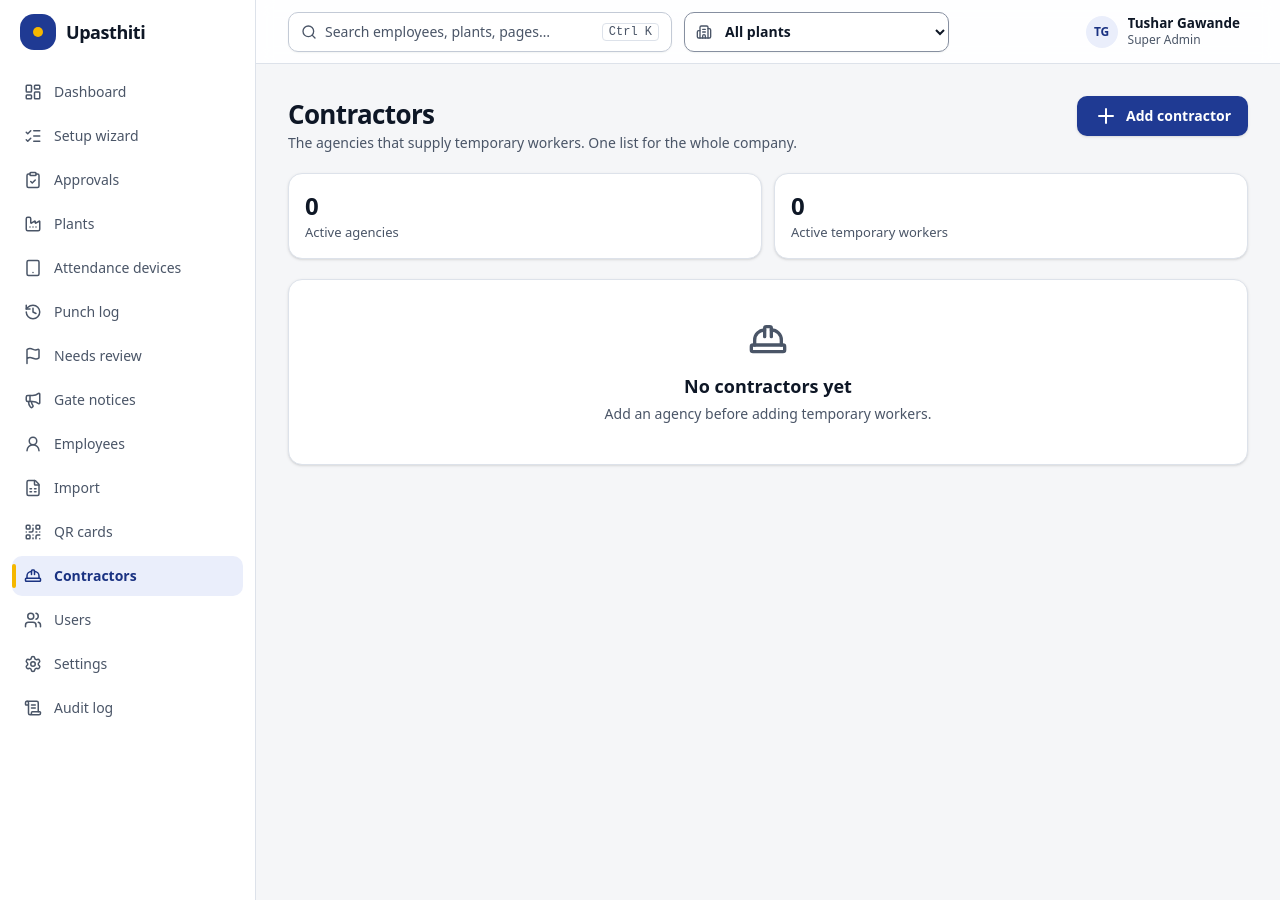
it: contractors › refuses letters in the phone number before sending
Click the button "Add contractor". click: click(1162, 116)
box: [1077, 96, 1248, 136]
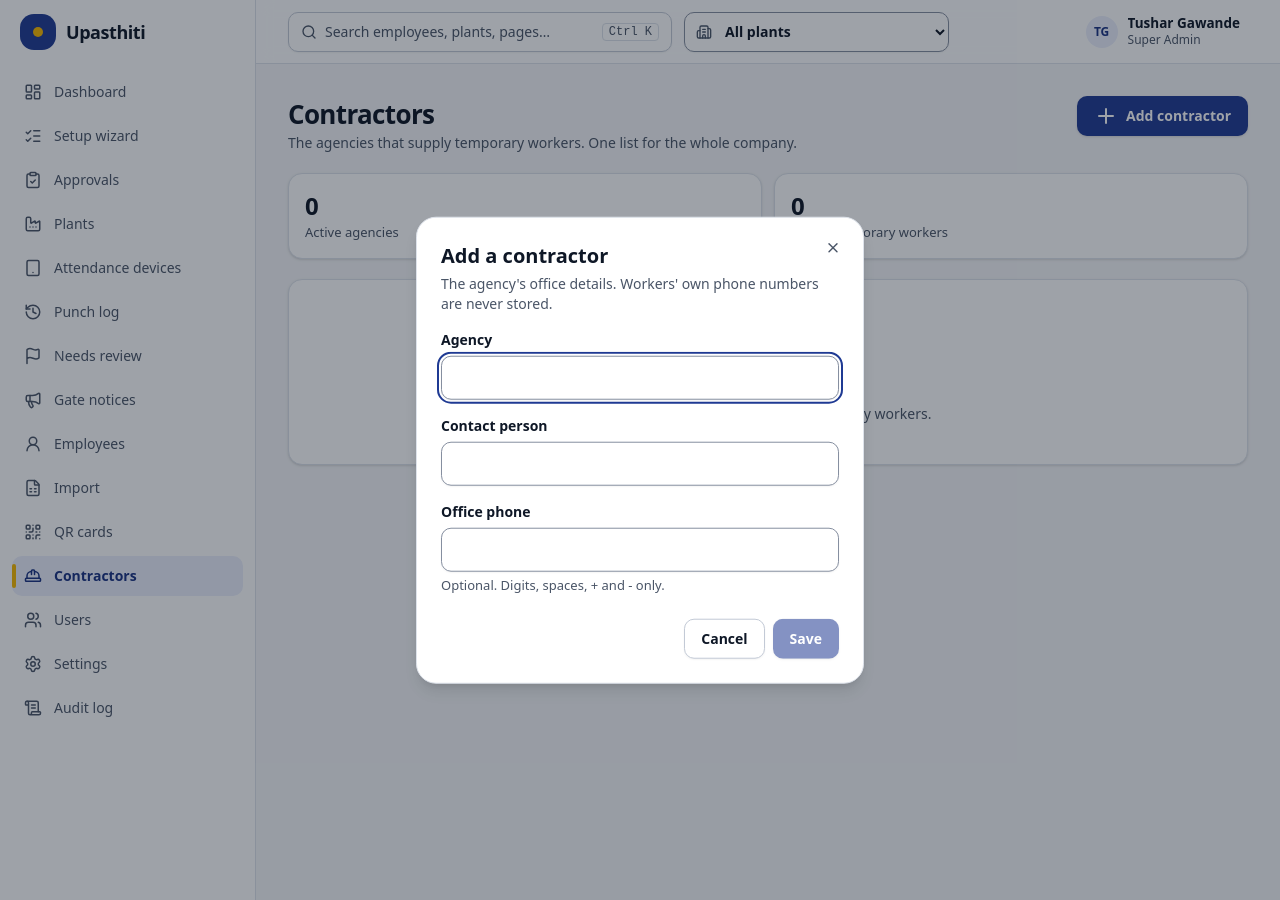
Type "X" into the field labelled "Agency". click: (640, 378)
box: [441, 356, 839, 400]
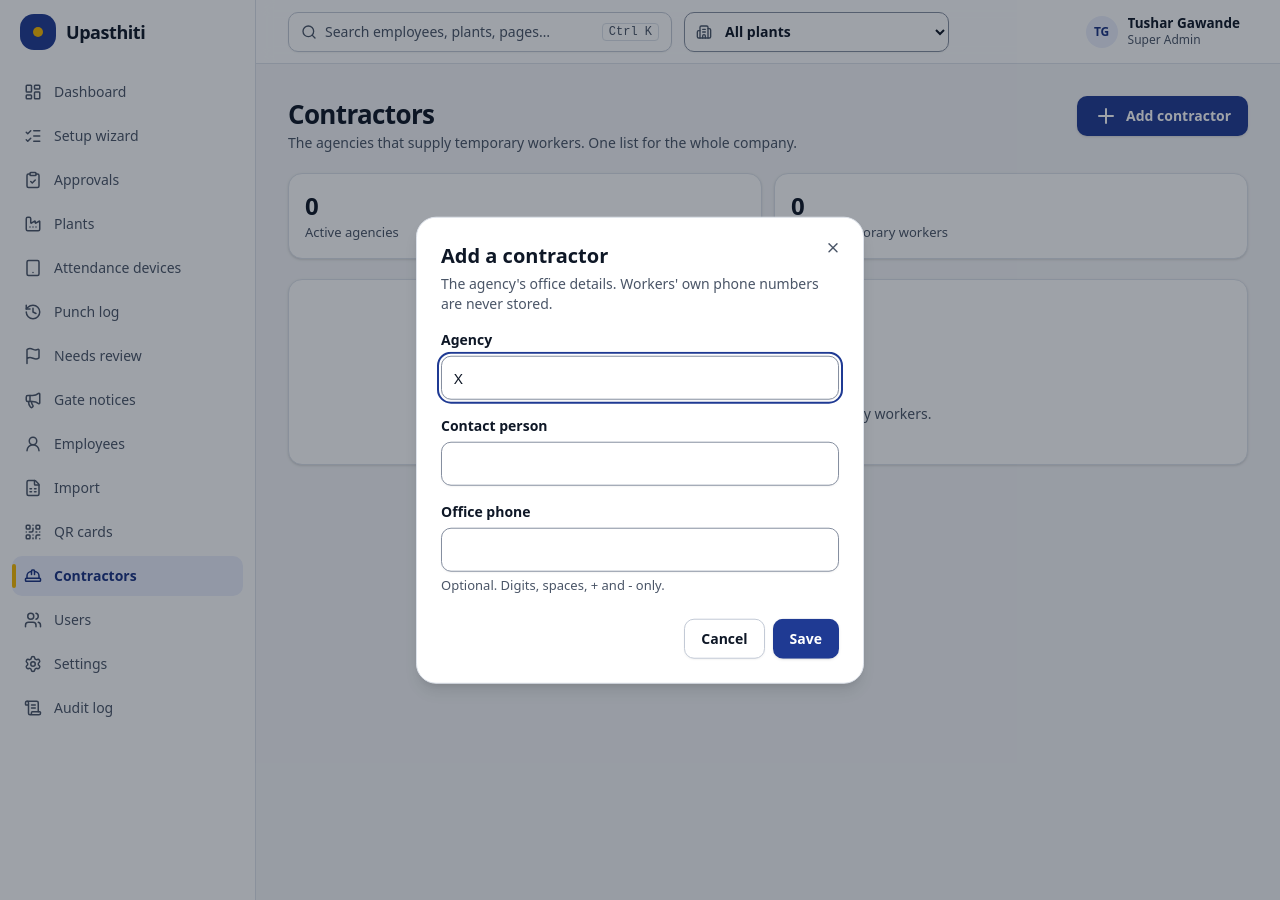
Type "call me" into the field labelled "Office phone". click: (640, 550)
box: [441, 528, 839, 572]
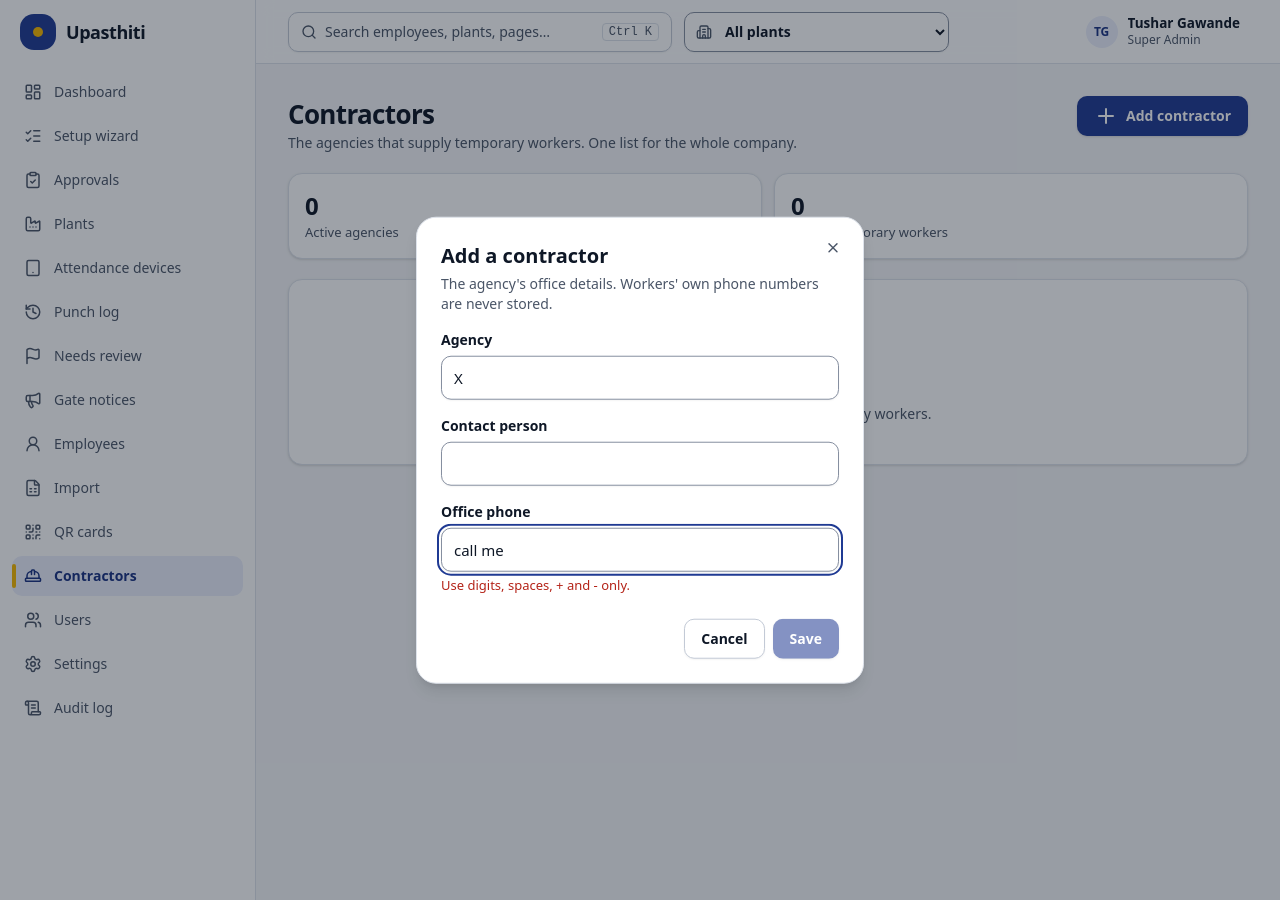
Check: the text "Use digits, spaces, + and - only." is shown, box [441, 576, 630, 594]
Check: the button "Save" is disabled, box [773, 618, 839, 658]
